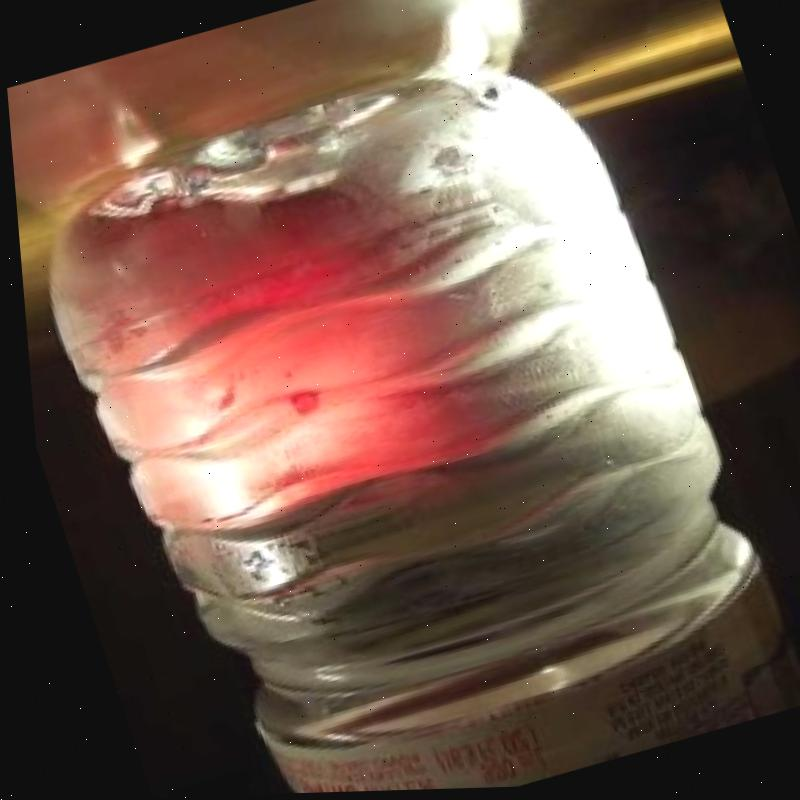botella: (3, 28, 800, 800)
